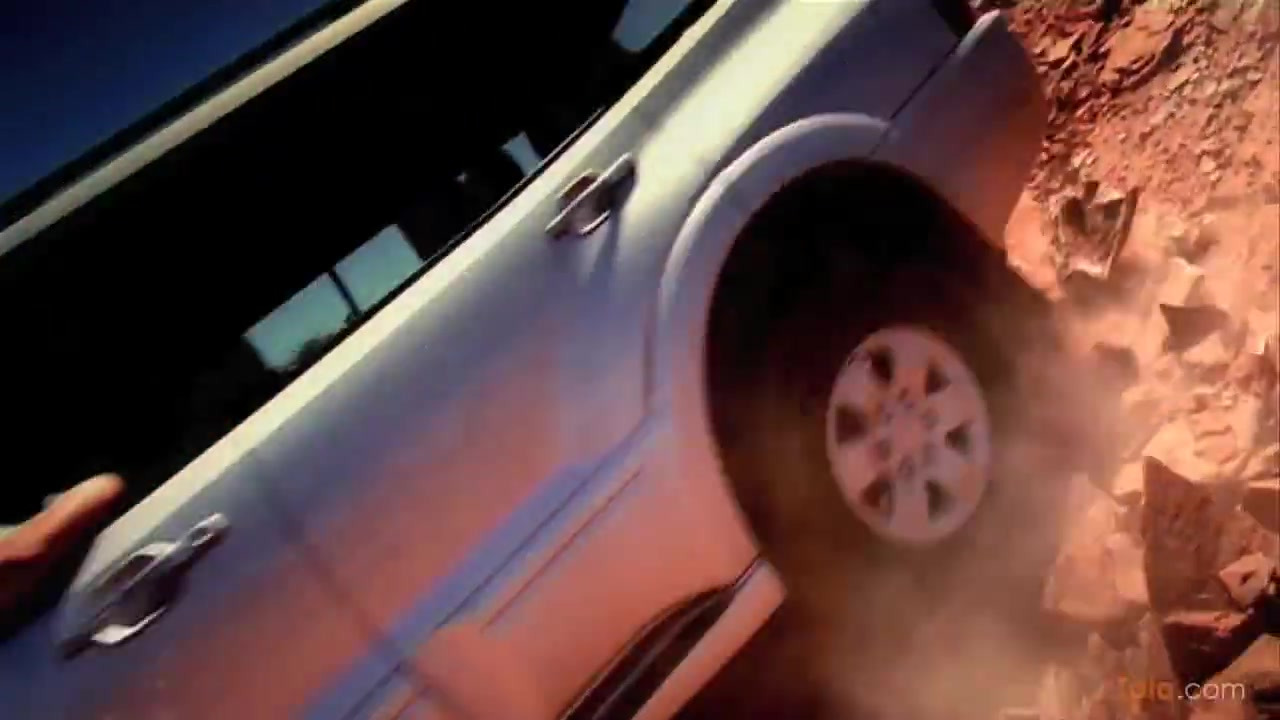car: (1, 1, 1066, 720)
